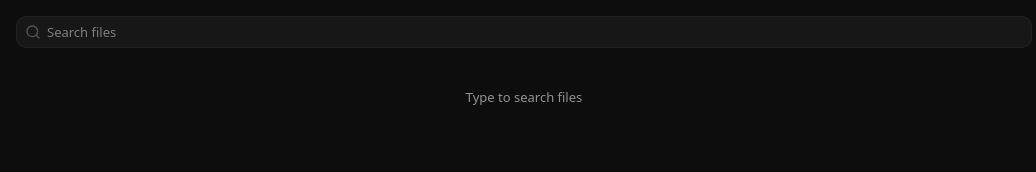
Test: FilesView search › picks a result with the keyboard and goes back with the query kept
Type "git" into the dropdown labelled "Search files" at (536, 32), box [41,23,1031,41]
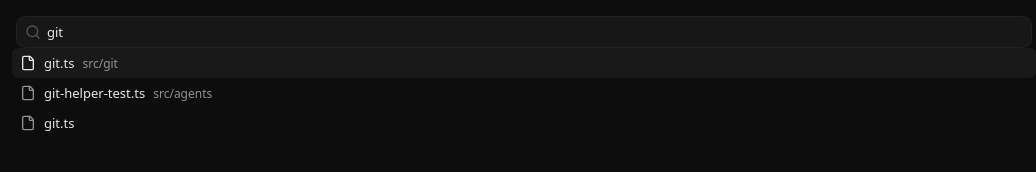
Press Arrowdown Enter
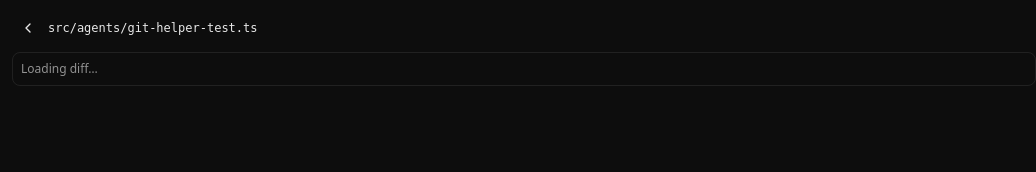
expect the heading "src/agents/git-helper-test.ts" is shown: met, box [48,21,258,35]
Click the button named "Back to search" at (28, 28), box [12,12,44,44]
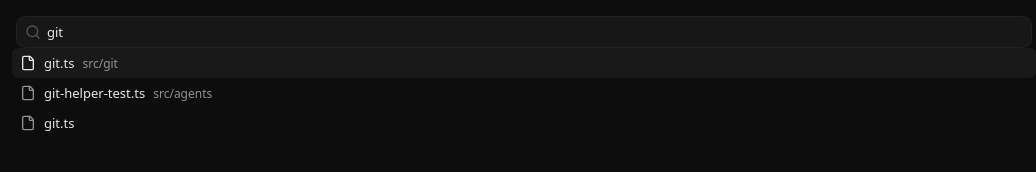
expect the dropdown named "Search files" holds "git": met, box [41,23,1031,41]
expect the number of options is 3: met, box [12,48,1035,78]; [20,84,212,102]; [20,114,74,132]
